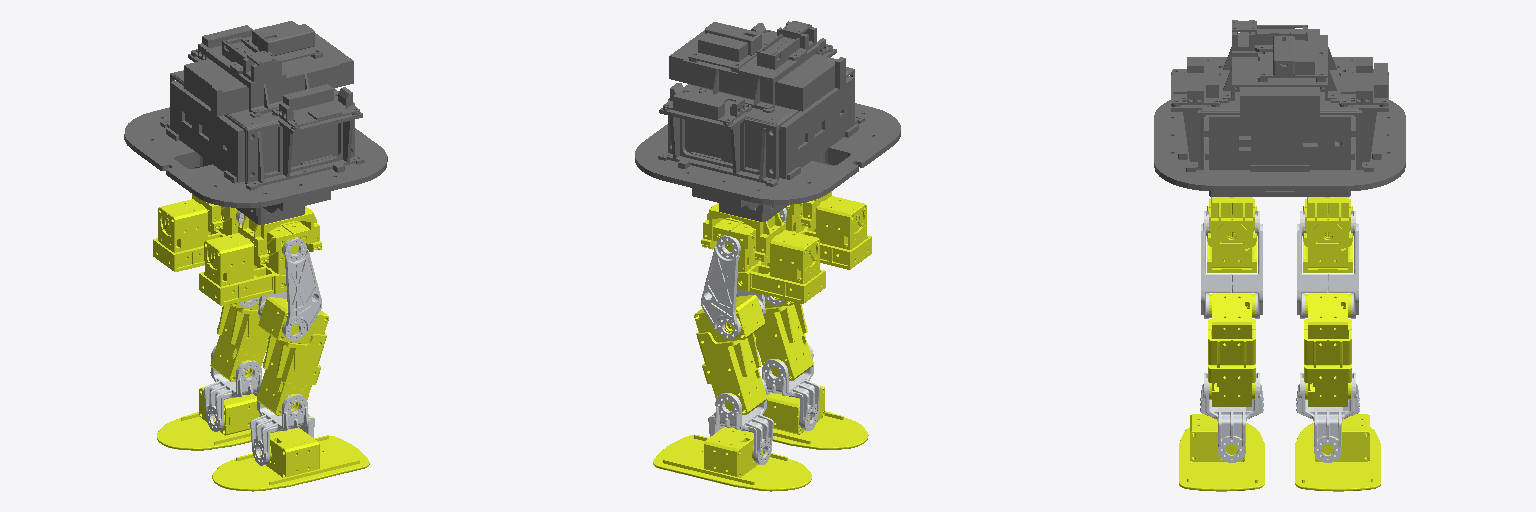
URDF robot description (exhx5_w_b_16):
<?xml version="1.0" encoding="utf-8"?>
<!-- This URDF was automatically created by SolidWorks to URDF Exporter! Originally created by [author] ([email redacted]) 
     Commit Version: 1.5.1-0-g916b5db  Build Version: 1.5.7152.31018
     For more information, please see http://wiki.ros.org/sw_urdf_exporter -->
<robot
  name="exhx5_w_b_16">
  <link
    name="body_link">
    <inertial>
      <origin
        xyz="0.00043545 0.00025536 0.10071"
        rpy="0 0 0" />
      <mass
        value="1.8238" />
      <inertia
        ixx="0.0025905"
        ixy="-5.6852E-06"
        ixz="-1.3106E-05"
        iyy="0.0024595"
        iyz="-1.261E-06"
        izz="0.0046407" />
    </inertial>
    <visual>
      <origin
        xyz="0 0 0"
        rpy="0 0 0" />
      <geometry>
        <mesh
          filename="../meshes/body_link.STL" />
      </geometry>
      <material
        name="">
        <color
          rgba="0.49804 0.49804 0.49804 1" />
      </material>
    </visual>
    <collision>
      <origin
        xyz="0 0 0"
        rpy="0 0 0" />
      <geometry>
        <mesh
          filename="../meshes/body_link.STL" />
      </geometry>
    </collision>
  </link>

  <link
    name="imu_link">
    <inertial>
      <origin
        xyz="-0.008387 1.336E-17 -0.0069463"
        rpy="0 0 0" />
      <mass
        value="0.0062931" />
      <inertia
        ixx="3.2242E-07"
        ixy="3.3527E-22"
        ixz="-6.9193E-08"
        iyy="9.2229E-07"
        iyz="-8.0392E-22"
        izz="1.1018E-06" />
    </inertial>
    <visual>
      <origin
        xyz="0 0 0"
        rpy="0 0 0" />
      <geometry>
        <mesh
          filename="../meshes/imu_link.STL" />
      </geometry>
      <material
        name="">
        <color
          rgba="0.79216 0.81961 0.93333 1" />
      </material>
    </visual>
    <collision>
      <origin
        xyz="0 0 0"
        rpy="0 0 0" />
      <geometry>
        <mesh
          filename="../meshes/imu_link.STL" />
      </geometry>
    </collision>
  </link>
  <joint
    name="imu"
    type="fixed">
    <origin
      xyz="0 0 0.0492"
      rpy="0 0 0" />
    <parent
      link="body_link" />
    <child
      link="imu_link" />
    <axis
      xyz="0 0 0" />
    <limit
      lower="-3.14"
      upper="3.14"
      effort="4"
      velocity="4" />
  </joint>
  <link
    name="l_hip_g_link">
    <inertial>
      <origin
        xyz="-0.0043797 -8.6604E-08 0.011813"
        rpy="0 0 0" />
      <mass
        value="0.061008" />
      <inertia
        ixx="1.167E-05"
        ixy="7.1767E-11"
        ixz="9.1442E-09"
        iyy="2.2342E-05"
        iyz="2.5177E-11"
        izz="2.4892E-05" />
    </inertial>
    <visual>
      <origin
        xyz="0 0 0"
        rpy="0 0 0" />
      <geometry>
        <mesh
          filename="../meshes/l_hip_g_link.STL" />
      </geometry>
      <material
        name="">
        <color
          rgba="0.9451 1 0.18431 1" />
      </material>
    </visual>
    <collision>
      <origin
        xyz="0 0 0"
        rpy="0 0 0" />
      <geometry>
        <mesh
          filename="../meshes/l_hip_g_link.STL" />
      </geometry>
    </collision>
  </link>
  <joint
    name="l_hip_g"
    type="fixed">
    <origin
      xyz="-.001 0.04 0"
      rpy="0 0 0" />
    <parent
      link="body_link" />
    <child
      link="l_hip_g_link" />
    <axis
      xyz="0 0 0" />
  </joint>
  <link
    name="l_hip_roll_link">
    <inertial>
      <origin
        xyz="0.013831 0.00033457 0.025453"
        rpy="0 0 0" />
      <mass
        value="0.2969" />
      <inertia
        ixx="7.8136E-05"
        ixy="7.265E-07"
        ixz="-6.9809E-08"
        iyy="9.2183E-05"
        iyz="-5.6881E-11"
        izz="7.1034E-05" />
    </inertial>
    <visual>
      <origin
        xyz="0 0 0"
        rpy="0 0 0" />
      <geometry>
        <mesh
          filename="../meshes/l_hip_roll_link.STL" />
      </geometry>
      <material
        name="">
        <color
          rgba="0.9451 1 0.18431 1" />
      </material>
    </visual>
    <collision>
      <origin
        xyz="0 0 0"
        rpy="0 0 0" />
      <geometry>
        <mesh
          filename="../meshes/l_hip_roll_link.STL" />
      </geometry>
    </collision>
  </link>
  <joint
    name="l_hip_roll"
    type="revolute">
    <origin
      xyz="0 0 0"
      rpy="3.1416 1.5708 0" />
    <parent
      link="l_hip_g_link" />
    <child
      link="l_hip_roll_link" />
    <axis
      xyz="0 0 1" />
    <limit
      lower="-3.14"
      upper="3.14"
      effort="4"
      velocity="4" />
  </joint>
  <link
    name="l_hip_pitch_link">
    <inertial>
      <origin
        xyz="0.041225 -0.007321 -5.0713E-08"
        rpy="0 0 0" />
      <mass
        value="0.051592" />
      <inertia
        ixx="2.7959E-05"
        ixy="2.0752E-06"
        ixz="-8.0934E-11"
        iyy="4.8156E-05"
        iyz="3.6317E-11"
        izz="2.9604E-05" />
    </inertial>
    <visual>
      <origin
        xyz="0 0 0"
        rpy="0 0 0" />
      <geometry>
        <mesh
          filename="../meshes/l_hip_pitch_link.STL" />
      </geometry>
      <material
        name="">
        <color
          rgba="0.89804 0.91765 0.92941 1" />
      </material>
    </visual>
    <collision>
      <origin
        xyz="0 0 0"
        rpy="0 0 0" />
      <geometry>
        <mesh
          filename="../meshes/l_hip_pitch_link.STL" />
      </geometry>
    </collision>
  </link>
  <joint
    name="l_hip_pitch"
    type="revolute">
    <origin
      xyz="0 0 0"
      rpy="1.5708 0 0" />
    <parent
      link="l_hip_roll_link" />
    <child
      link="l_hip_pitch_link" />
    <axis
      xyz="0 0 1" />
    <limit
      lower="-3.14"
      upper="3.14"
      effort="4"
      velocity="4" />
  </joint>
  <link
    name="l_knee_link">
    <inertial>
      <origin
        xyz="0.033756 -0.0084189 -6.6115E-09"
        rpy="0 0 0" />
      <mass
        value="0.28878" />
      <inertia
        ixx="6.6724E-05"
        ixy="7.5004E-07"
        ixz="-8.4578E-07"
        iyy="6.5699E-05"
        iyz="4.1085E-07"
        izz="7.0381E-05" />
    </inertial>
    <visual>
      <origin
        xyz="0 0 0"
        rpy="0 0 0" />
      <geometry>
        <mesh
          filename="../meshes/l_knee_link.STL" />
      </geometry>
      <material
        name="">
        <color
          rgba="0.9451 1 0.18431 1" />
      </material>
    </visual>
    <collision>
      <origin
        xyz="0 0 0"
        rpy="0 0 0" />
      <geometry>
        <mesh
          filename="../meshes/l_knee_link.STL" />
      </geometry>
    </collision>
  </link>
  <joint
    name="l_knee"
    type="revolute">
    <origin
      xyz="0.075954 0 0"
      rpy="0 0 0" />
    <parent
      link="l_hip_pitch_link" />
    <child
      link="l_knee_link" />
    <axis
      xyz="0 0 1" />
    <limit
      lower="-3.14"
      upper="3.14"
      effort="4"
      velocity="4" />
  </joint>
  <link
    name="l_ank_pitch_link">
    <inertial>
      <origin
        xyz="0.022786 -7.3909E-09 -7.1981E-06"
        rpy="0 0 0" />
      <mass
        value="0.044772" />
      <inertia
        ixx="1.777E-05"
        ixy="8.555E-14"
        ixz="-3.3713E-09"
        iyy="1.7119E-05"
        iyz="1.7593E-11"
        izz="1.8661E-05" />
    </inertial>
    <visual>
      <origin
        xyz="0 0 0"
        rpy="0 0 0" />
      <geometry>
        <mesh
          filename="../meshes/l_ank_pitch_link.STL" />
      </geometry>
      <material
        name="">
        <color
          rgba="0.89804 0.91765 0.92941 1" />
      </material>
    </visual>
    <collision>
      <origin
        xyz="0 0 0"
        rpy="0 0 0" />
      <geometry>
        <mesh
          filename="../meshes/l_ank_pitch_link.STL" />
      </geometry>
    </collision>
  </link>
  <joint
    name="l_ank_pitch"
    type="revolute">
    <origin
      xyz="0.074602 0 0"
      rpy="3.1416 0 0" />
    <parent
      link="l_knee_link" />
    <child
      link="l_ank_pitch_link" />
    <axis
      xyz="0 0 1" />
    <limit
      lower="-3.14"
      upper="3.14"
      effort="4"
      velocity="4" />
  </joint>
  <link
    name="l_ank_roll_link">
    <inertial>
      <origin
        xyz="0.0047069 0.010728 0.0015299"
        rpy="0 0 0" />
      <mass
        value="0.16774" />
      <inertia
        ixx="0.00012039"
        ixy="-3.7428E-09"
        ixz="4.4069E-08"
        iyy="8.7735E-05"
        iyz="7.0469E-07"
        izz="4.7866E-05" />
    </inertial>
    <visual>
      <origin
        xyz="0 0 0"
        rpy="0 0 0" />
      <geometry>
        <mesh
          filename="../meshes/l_ank_roll_link.STL" />
      </geometry>
      <material
        name="">
        <color
          rgba="0.9451 1 0.18431 1" />
      </material>
    </visual>
    <collision>
      <origin
        xyz="0 0 0"
        rpy="0 0 0" />
      <geometry>
        <mesh
          filename="../meshes/l_ank_roll_link.STL" />
      </geometry>
    </collision>
  </link>
  <joint
    name="l_ank_roll"
    type="revolute">
    <origin
      xyz="0.0465 0 0"
      rpy="-1.5708 0 0" />
    <parent
      link="l_ank_pitch_link" />
    <child
      link="l_ank_roll_link" />
    <axis
      xyz="0 0 1" />
    <limit
      lower="-3.14"
      upper="3.14"
      effort="4"
      velocity="4" />
  </joint>
  <link
    name="r_hip_g_link">
    <inertial>
      <origin
        xyz="-0.0043797 -8.6604E-08 0.011813"
        rpy="0 0 0" />
      <mass
        value="0.061008" />
      <inertia
        ixx="1.167E-05"
        ixy="7.1767E-11"
        ixz="9.1442E-09"
        iyy="2.2342E-05"
        iyz="2.5177E-11"
        izz="2.4892E-05" />
    </inertial>
    <visual>
      <origin
        xyz="0 0 0"
        rpy="0 0 0" />
      <geometry>
        <mesh
          filename="../meshes/r_hip_g_link.STL" />
      </geometry>
      <material
        name="">
        <color
          rgba="0.9451 1 0.18431 1" />
      </material>
    </visual>
    <collision>
      <origin
        xyz="0 0 0"
        rpy="0 0 0" />
      <geometry>
        <mesh
          filename="../meshes/r_hip_g_link.STL" />
      </geometry>
    </collision>
  </link>
  <joint
    name="r_hip_g"
    type="fixed">
    <origin
      xyz="-.001 -.04 0"
      rpy="0 0 0" />
    <parent
      link="body_link" />
    <child
      link="r_hip_g_link" />
    <axis
      xyz="0 0 0" />
  </joint>
  <link
    name="r_hip_roll_link">
    <inertial>
      <origin
        xyz="0.013831 0.00033457 0.025453"
        rpy="0 0 0" />
      <mass
        value="0.2969" />
      <inertia
        ixx="7.8136E-05"
        ixy="7.265E-07"
        ixz="-6.9809E-08"
        iyy="9.2183E-05"
        iyz="-5.6881E-11"
        izz="7.1034E-05" />
    </inertial>
    <visual>
      <origin
        xyz="0 0 0"
        rpy="0 0 0" />
      <geometry>
        <mesh
          filename="../meshes/r_hip_roll_link.STL" />
      </geometry>
      <material
        name="">
        <color
          rgba="0.9451 1 0.18431 1" />
      </material>
    </visual>
    <collision>
      <origin
        xyz="0 0 0"
        rpy="0 0 0" />
      <geometry>
        <mesh
          filename="../meshes/r_hip_roll_link.STL" />
      </geometry>
    </collision>
  </link>
  <joint
    name="r_hip_roll"
    type="revolute">
    <origin
      xyz="0 0 0"
      rpy="3.1416 1.5708 0" />
    <parent
      link="r_hip_g_link" />
    <child
      link="r_hip_roll_link" />
    <axis
      xyz="0 0 1" />
    <limit
      lower="-3.14"
      upper="3.14"
      effort="4"
      velocity="4" />
  </joint>
  <link
    name="r_hip_pitch_link">
    <inertial>
      <origin
        xyz="0.041225 0.007321 5.0713E-08"
        rpy="0 0 0" />
      <mass
        value="0.051592" />
      <inertia
        ixx="2.7959E-05"
        ixy="-2.0752E-06"
        ixz="8.0934E-11"
        iyy="4.8156E-05"
        iyz="3.6317E-11"
        izz="2.9604E-05" />
    </inertial>
    <visual>
      <origin
        xyz="0 0 0"
        rpy="0 0 0" />
      <geometry>
        <mesh
          filename="../meshes/r_hip_pitch_link.STL" />
      </geometry>
      <material
        name="">
        <color
          rgba="0.89804 0.91765 0.92941 1" />
      </material>
    </visual>
    <collision>
      <origin
        xyz="0 0 0"
        rpy="0 0 0" />
      <geometry>
        <mesh
          filename="../meshes/r_hip_pitch_link.STL" />
      </geometry>
    </collision>
  </link>
  <joint
    name="r_hip_pitch"
    type="revolute">
    <origin
      xyz="0 0 0"
      rpy="-1.5708 0 0" />
    <parent
      link="r_hip_roll_link" />
    <child
      link="r_hip_pitch_link" />
    <axis
      xyz="0 0 1" />
    <limit
      lower="-3.14"
      upper="3.14"
      effort="4"
      velocity="4" />
  </joint>
  <link
    name="r_knee_link">
    <inertial>
      <origin
        xyz="0.033757 0.0084176 6.6115E-09"
        rpy="0 0 0" />
      <mass
        value="0.28878" />
      <inertia
        ixx="6.6724E-05"
        ixy="-7.5008E-07"
        ixz="8.458E-07"
        iyy="6.5699E-05"
        iyz="4.1081E-07"
        izz="7.0381E-05" />
    </inertial>
    <visual>
      <origin
        xyz="0 0 0"
        rpy="0 0 0" />
      <geometry>
        <mesh
          filename="../meshes/r_knee_link.STL" />
      </geometry>
      <material
        name="">
        <color
          rgba="0.9451 1 0.18431 1" />
      </material>
    </visual>
    <collision>
      <origin
        xyz="0 0 0"
        rpy="0 0 0" />
      <geometry>
        <mesh
          filename="../meshes/r_knee_link.STL" />
      </geometry>
    </collision>
  </link>
  <joint
    name="r_knee"
    type="revolute">
    <origin
      xyz="0.075954 0 0"
      rpy="0 0 0" />
    <parent
      link="r_hip_pitch_link" />
    <child
      link="r_knee_link" />
    <axis
      xyz="0 0 1" />
    <limit
      lower="-3.14"
      upper="3.14"
      effort="4"
      velocity="4" />
  </joint>
  <link
    name="r_ank_pitch_link">
    <inertial>
      <origin
        xyz="0.025786 -7.3887E-09 -7.1981E-06"
        rpy="0 0 0" />
      <mass
        value="0.044772" />
      <inertia
        ixx="1.777E-05"
        ixy="8.5434E-14"
        ixz="-3.3713E-09"
        iyy="1.7119E-05"
        iyz="1.7592E-11"
        izz="1.8661E-05" />
    </inertial>
    <visual>
      <origin
        xyz="0 0 0"
        rpy="0 0 0" />
      <geometry>
        <mesh
          filename="../meshes/r_ank_pitch_link.STL" />
      </geometry>
      <material
        name="">
        <color
          rgba="0.89804 0.91765 0.92941 1" />
      </material>
    </visual>
    <collision>
      <origin
        xyz="0 0 0"
        rpy="0 0 0" />
      <geometry>
        <mesh
          filename="../meshes/r_ank_pitch_link.STL" />
      </geometry>
    </collision>
  </link>
  <joint
    name="r_ank_pitch"
    type="revolute">
    <origin
      xyz="0.071602 0 0"
      rpy="3.1416 0 0" />
    <parent
      link="r_knee_link" />
    <child
      link="r_ank_pitch_link" />
    <axis
      xyz="0 0 1" />
    <limit
      lower="-3.14"
      upper="3.14"
      effort="4"
      velocity="4" />
  </joint>
  <link
    name="r_ank_roll_link">
    <inertial>
      <origin
        xyz="0.0077069 -0.010728 0.0015299"
        rpy="0 0 0" />
      <mass
        value="0.16774" />
      <inertia
        ixx="0.00012039"
        ixy="3.743E-09"
        ixz="4.407E-08"
        iyy="8.7735E-05"
        iyz="-7.0467E-07"
        izz="4.7866E-05" />
    </inertial>
    <visual>
      <origin
        xyz="0 0 0"
        rpy="0 0 0" />
      <geometry>
        <mesh
          filename="../meshes/r_ank_roll_link.STL" />
      </geometry>
      <material
        name="">
        <color
          rgba="0.9451 1 0.18431 1" />
      </material>
    </visual>
    <collision>
      <origin
        xyz="0 0 0"
        rpy="0 0 0" />
      <geometry>
        <mesh
          filename="../meshes/r_ank_roll_link.STL" />
      </geometry>
    </collision>
  </link>
  <joint
    name="r_ank_roll"
    type="revolute">
    <origin
      xyz="0.0465 0 0"
      rpy="1.5708 0 0" />
    <parent
      link="r_ank_pitch_link" />
    <child
      link="r_ank_roll_link" />
    <axis
      xyz="0 0 1" />
    <limit
      lower="-3.14"
      upper="3.14"
      effort="4"
      velocity="4" />
  </joint>
  <transmission name="r_hip_roll_tran">
    <type>transmission_interface/SimpleTransmission</type>
    <joint name="r_hip_roll">
      <hardwareInterface>hardware_interface/EffortJointInterface</hardwareInterface>
    </joint>
    <actuator name="r_hip_roll_motor">
      <hardwareInterface>hardware_interface/EffortJointInterface</hardwareInterface>
      <mechanicalReduction>1</mechanicalReduction>
    </actuator>
  </transmission>
  <transmission name="r_hip_pitch_tran">
    <type>transmission_interface/SimpleTransmission</type>
    <joint name="r_hip_pitch">
      <hardwareInterface>hardware_interface/EffortJointInterface</hardwareInterface>
    </joint>
    <actuator name="r_hip_pitch_motor">
      <hardwareInterface>hardware_interface/EffortJointInterface</hardwareInterface>
      <mechanicalReduction>1</mechanicalReduction>
    </actuator>
  </transmission>
  <transmission name="r_knee_tran">
    <type>transmission_interface/SimpleTransmission</type>
    <joint name="r_knee">
      <hardwareInterface>hardware_interface/EffortJointInterface</hardwareInterface>
    </joint>
    <actuator name="r_knee_motor">
      <hardwareInterface>hardware_interface/EffortJointInterface</hardwareInterface>
      <mechanicalReduction>1</mechanicalReduction>
    </actuator>
  </transmission>
  <transmission name="r_ank_pitch_tran">
    <type>transmission_interface/SimpleTransmission</type>
    <joint name="r_ank_pitch">
      <hardwareInterface>hardware_interface/EffortJointInterface</hardwareInterface>
    </joint>
    <actuator name="r_ank_pitch_motor">
      <hardwareInterface>hardware_interface/EffortJointInterface</hardwareInterface>
      <mechanicalReduction>1</mechanicalReduction>
    </actuator>
  </transmission>
  <transmission name="r_ank_roll_tran">
    <type>transmission_interface/SimpleTransmission</type>
    <joint name="r_ank_roll">
      <hardwareInterface>hardware_interface/EffortJointInterface</hardwareInterface>
    </joint>
    <actuator name="r_ank_roll_motor">
      <hardwareInterface>hardware_interface/EffortJointInterface</hardwareInterface>
      <mechanicalReduction>1</mechanicalReduction>
    </actuator>
  </transmission>
  <transmission name="l_hip_roll_tran">
    <type>transmission_interface/SimpleTransmission</type>
    <joint name="l_hip_roll">
      <hardwareInterface>hardware_interface/EffortJointInterface</hardwareInterface>
    </joint>
    <actuator name="l_hip_roll_motor">
      <hardwareInterface>hardware_interface/EffortJointInterface</hardwareInterface>
      <mechanicalReduction>1</mechanicalReduction>
    </actuator>
  </transmission>
  <transmission name="l_hip_pitch_tran">
    <type>transmission_interface/SimpleTransmission</type>
    <joint name="l_hip_pitch">
      <hardwareInterface>hardware_interface/EffortJointInterface</hardwareInterface>
    </joint>
    <actuator name="l_hip_pitch_motor">
      <hardwareInterface>hardware_interface/EffortJointInterface</hardwareInterface>
      <mechanicalReduction>1</mechanicalReduction>
    </actuator>
  </transmission>
  <transmission name="l_knee_tran">
    <type>transmission_interface/SimpleTransmission</type>
    <joint name="l_knee">
      <hardwareInterface>hardware_interface/EffortJointInterface</hardwareInterface>
    </joint>
    <actuator name="l_knee_motor">
      <hardwareInterface>hardware_interface/EffortJointInterface</hardwareInterface>
      <mechanicalReduction>1</mechanicalReduction>
    </actuator>
  </transmission>
  <transmission name="l_ank_pitch_tran">
    <type>transmission_interface/SimpleTransmission</type>
    <joint name="l_ank_pitch">
      <hardwareInterface>hardware_interface/EffortJointInterface</hardwareInterface>
    </joint>
    <actuator name="l_ank_pitch_motor">
      <hardwareInterface>hardware_interface/EffortJointInterface</hardwareInterface>
      <mechanicalReduction>1</mechanicalReduction>
    </actuator>
  </transmission>
  <transmission name="l_ank_roll_tran">
    <type>transmission_interface/SimpleTransmission</type>
    <joint name="l_ank_roll">
      <hardwareInterface>hardware_interface/EffortJointInterface</hardwareInterface>
    </joint>
    <actuator name="l_ank_roll_motor">
      <hardwareInterface>hardware_interface/EffortJointInterface</hardwareInterface>
      <mechanicalReduction>1</mechanicalReduction>
    </actuator>
  </transmission>
</robot>

--- Render facts (derived) ---
The picture shows the robot from 3 angles, left to right: view 1: azimuth 30°, elevation 25°; view 2: azimuth 150°, elevation 25°; view 3: azimuth 270°, elevation 25°; orthographic projection.
Robot: exhx5_w_b_16 — 14 links, 13 joints (10 revolute, 3 fixed); root link body_link; default pose: every joint at zero.
Visible links, largest first — view 1: body_link, r_ank_roll_link, r_hip_roll_link, r_knee_link, l_hip_roll_link, l_ank_roll_link, l_knee_link, r_hip_pitch_link, r_ank_pitch_link, l_ank_pitch_link, r_hip_g_link; view 2: body_link, l_ank_roll_link, l_hip_roll_link, l_knee_link, r_hip_roll_link, r_ank_roll_link, r_knee_link, l_hip_pitch_link, l_ank_pitch_link, r_ank_pitch_link, l_hip_g_link; view 3: body_link, l_knee_link, r_knee_link, l_ank_roll_link, r_ank_roll_link, l_hip_pitch_link, r_hip_pitch_link, l_ank_pitch_link, r_ank_pitch_link, r_hip_g_link, l_hip_g_link, l_hip_roll_link (+1 smaller).
Link boxes in pixels (box(x1,y1,x2,y2)): body_link: box(124, 21, 387, 224); r_ank_roll_link: box(212, 427, 369, 491); r_hip_roll_link: box(199, 221, 310, 305); r_knee_link: box(257, 297, 328, 415); l_hip_roll_link: box(153, 199, 238, 271); l_ank_roll_link: box(157, 387, 310, 450); l_knee_link: box(210, 299, 269, 381); r_hip_pitch_link: box(258, 238, 321, 340); r_ank_pitch_link: box(250, 379, 314, 465); l_ank_pitch_link: box(204, 345, 261, 431); r_hip_g_link: box(238, 206, 321, 265); body_link: box(635, 21, 900, 221); l_ank_roll_link: box(653, 427, 811, 491); l_hip_roll_link: box(713, 218, 825, 303); l_knee_link: box(694, 295, 766, 414); r_hip_roll_link: box(785, 196, 871, 269); r_ank_roll_link: box(712, 386, 868, 449); r_knee_link: box(754, 297, 813, 380); l_hip_pitch_link: box(701, 235, 765, 339); l_ank_pitch_link: box(708, 378, 773, 464); r_ank_pitch_link: box(762, 344, 820, 430); l_hip_g_link: box(701, 203, 785, 262); body_link: box(1154, 20, 1405, 196); l_knee_link: box(1304, 293, 1351, 406); r_knee_link: box(1208, 293, 1255, 406); l_ank_roll_link: box(1295, 414, 1380, 491); r_ank_roll_link: box(1179, 414, 1264, 491); l_hip_pitch_link: box(1297, 211, 1358, 318); r_hip_pitch_link: box(1201, 211, 1262, 318); l_ank_pitch_link: box(1296, 373, 1359, 462); r_ank_pitch_link: box(1200, 373, 1263, 462); r_hip_g_link: box(1207, 197, 1256, 246); l_hip_g_link: box(1303, 197, 1352, 246); l_hip_roll_link: box(1303, 199, 1352, 272).
Bounding box of the posed robot: 0.185 × 0.21 × 0.3893 m (x, y, z).
14 mesh visuals loaded from 14 distinct referenced files (14 binary STL).